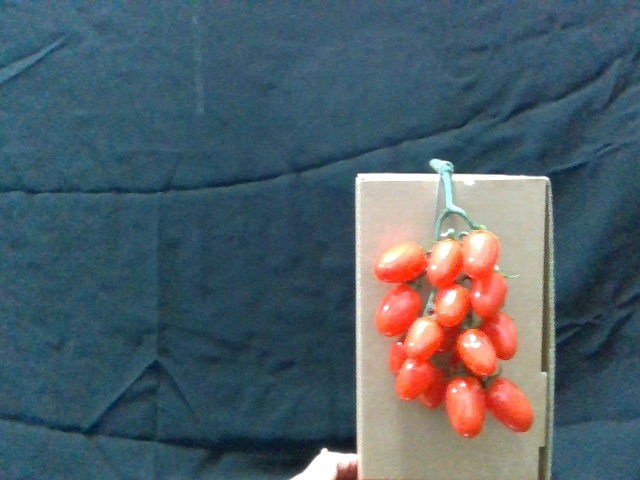tomato: (487, 378, 535, 433), (377, 284, 423, 338), (446, 378, 485, 441), (454, 326, 497, 380), (378, 244, 429, 286), (479, 311, 521, 362), (395, 359, 438, 406), (406, 317, 448, 365), (463, 227, 500, 278), (468, 274, 508, 318), (427, 240, 462, 288), (436, 282, 472, 328)
